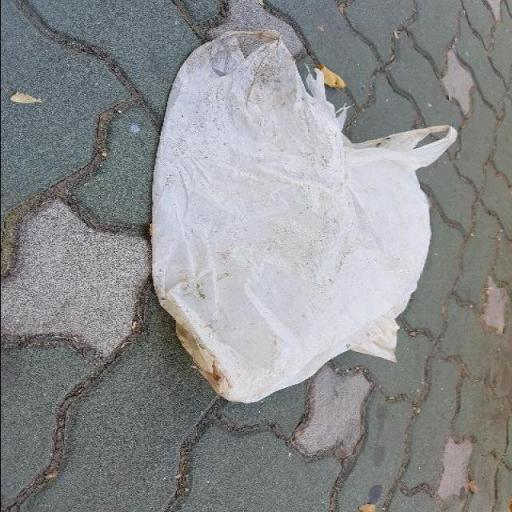plastic-bag: (147, 25, 462, 406)
